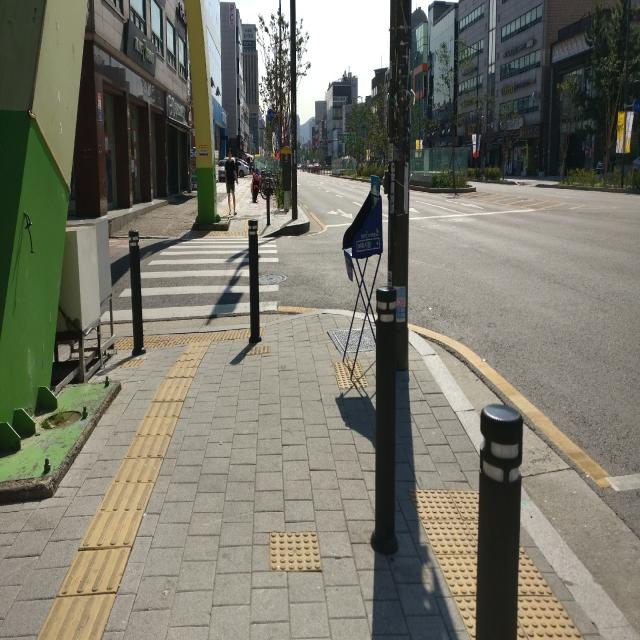횡단보도: (98, 235, 280, 324)
